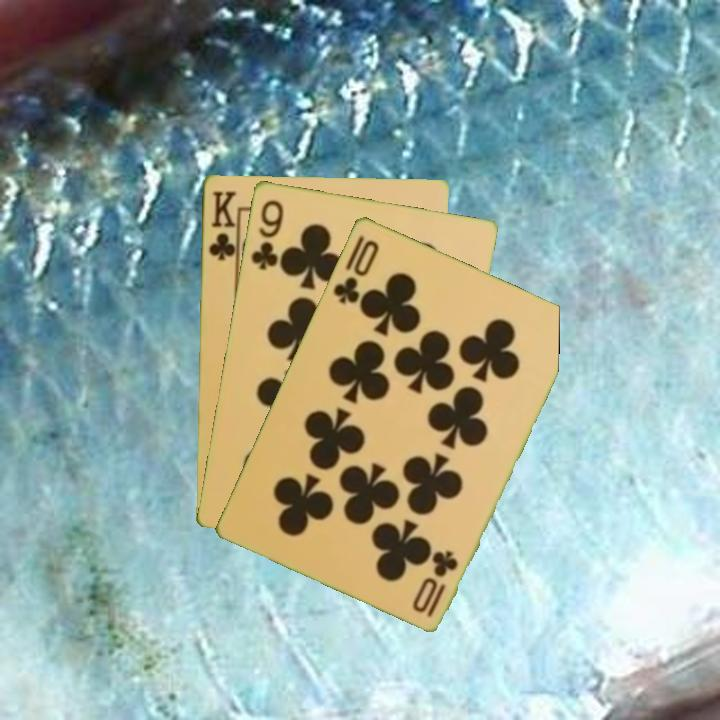10c: (329, 235, 382, 307), (423, 545, 461, 620)
9c: (247, 196, 286, 273)
Kc: (205, 187, 239, 269)
